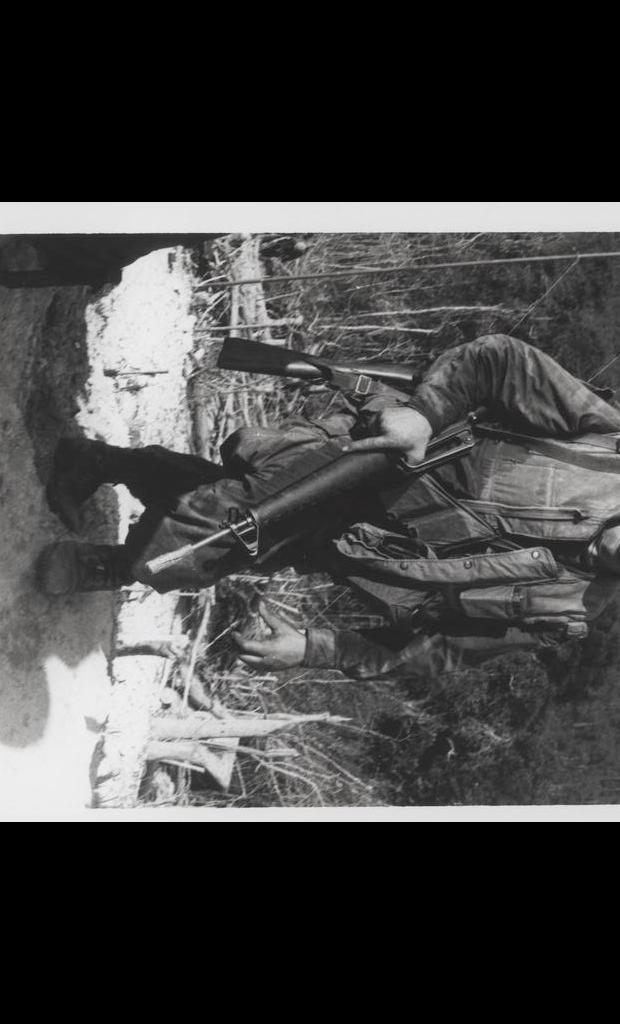gun: (140, 401, 491, 572)
